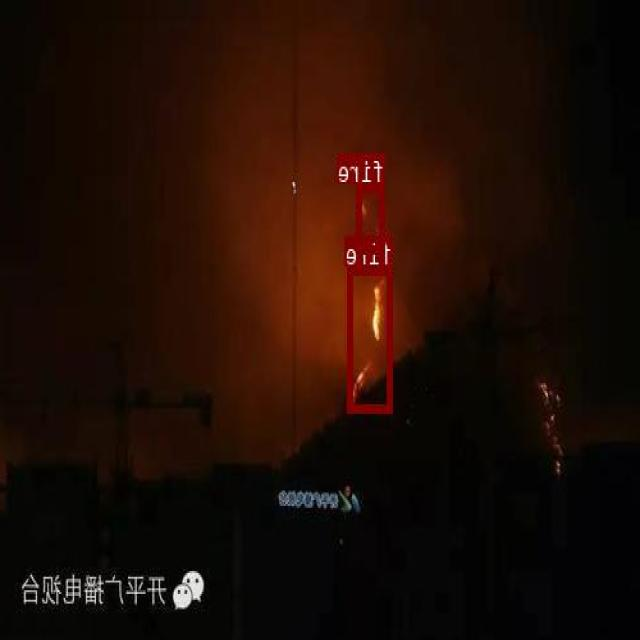fire: (348, 266, 394, 411), (358, 183, 385, 253)
